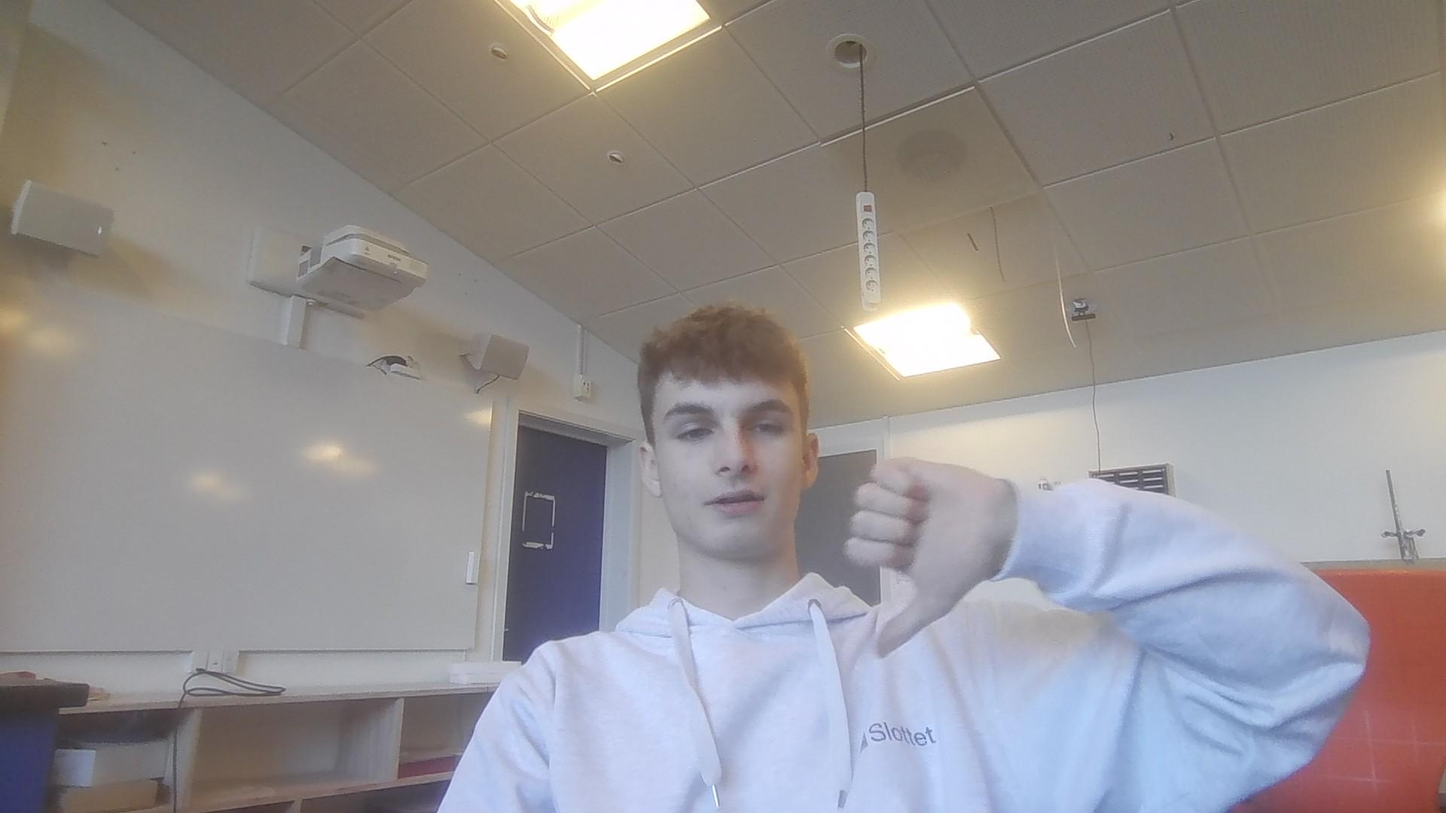thumbs down: (842, 450, 1018, 665)
